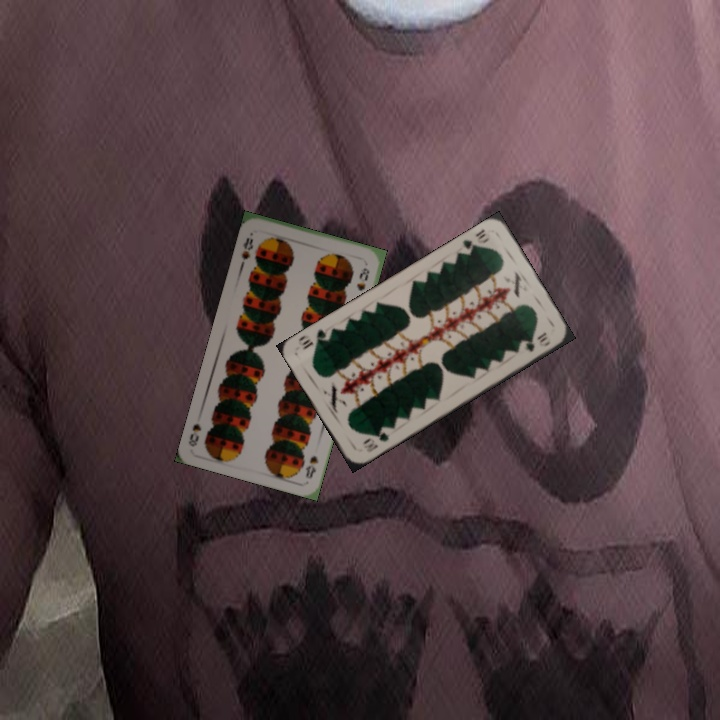G10: (458, 225, 491, 257), (359, 428, 392, 455)
S8: (237, 233, 256, 268), (301, 452, 321, 481)
